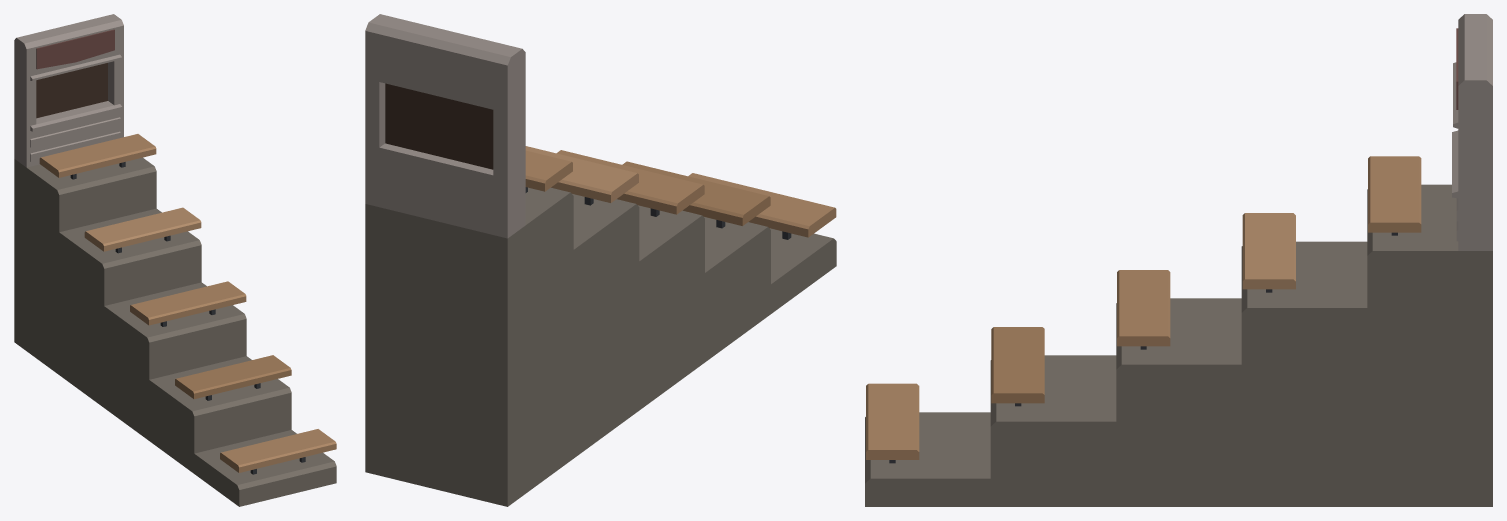
File: bleacher-stand-run-1627c2.glb
3 views of the same model, side by side, from view 1: azimuth 30°, elevation 25°; view 2: azimuth 150°, elevation 25°; view 3: azimuth 270°, elevation 25° (orthographic). The views are drawn at different scales.
Visible parts, largest first — view 1: bleacher-stand; view 2: bleacher-stand; view 3: bleacher-stand.
Part boxes in pixels (box(x1,y1,x2,y2)): bleacher-stand: box(14, 14, 336, 506); bleacher-stand: box(365, 14, 836, 506); bleacher-stand: box(865, 14, 1492, 506).
Bounding box in the file's own units: 1 × 3 × 4.
